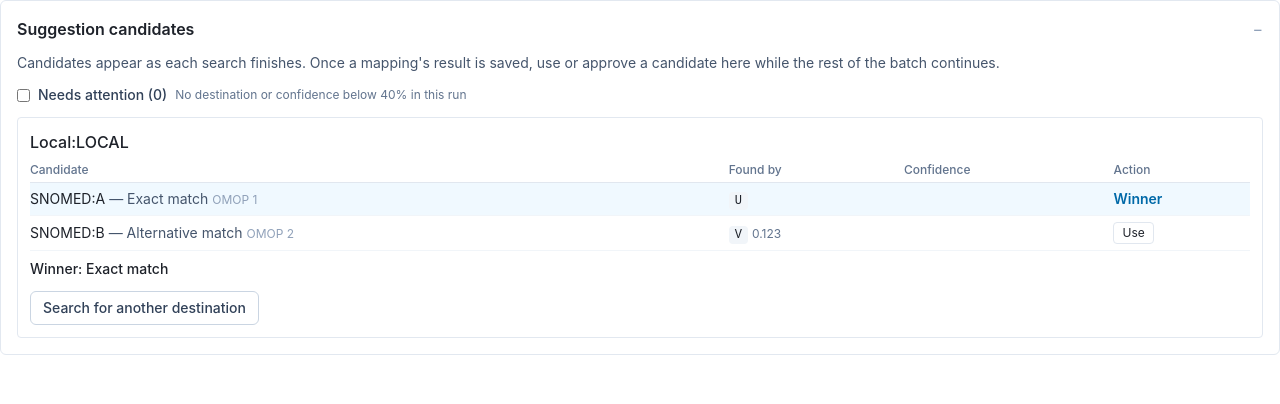
Test: progressive suggestion candidates › reports failed saves and allows retry without claiming selection
Click the button with aria-label "Use Alternative match for LOCAL": (1134, 233) [1114, 222, 1154, 244]
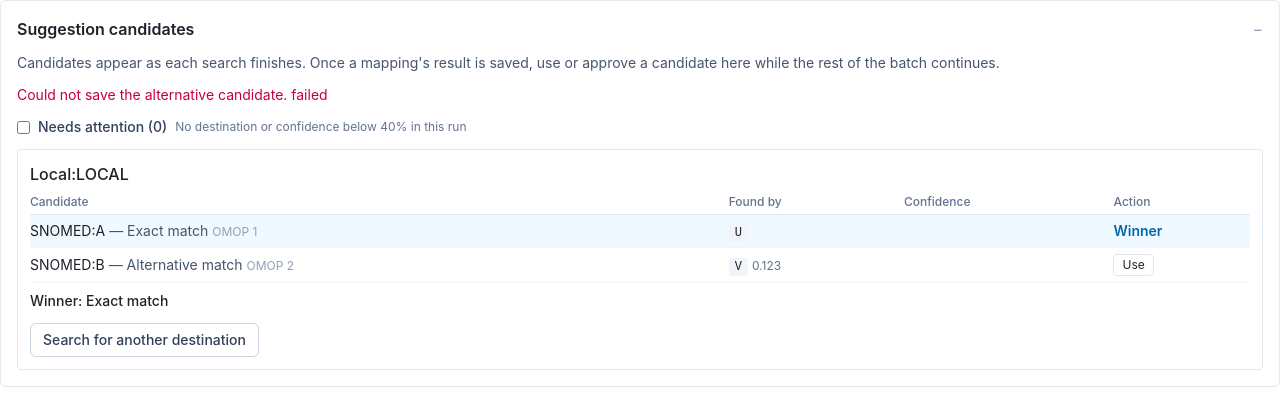
Check: the button with aria-label "Use Alternative match for LOCAL" is enabled, box [1114, 254, 1154, 276]
Check: the message shows "Could not save", box [17, 86, 328, 103]
